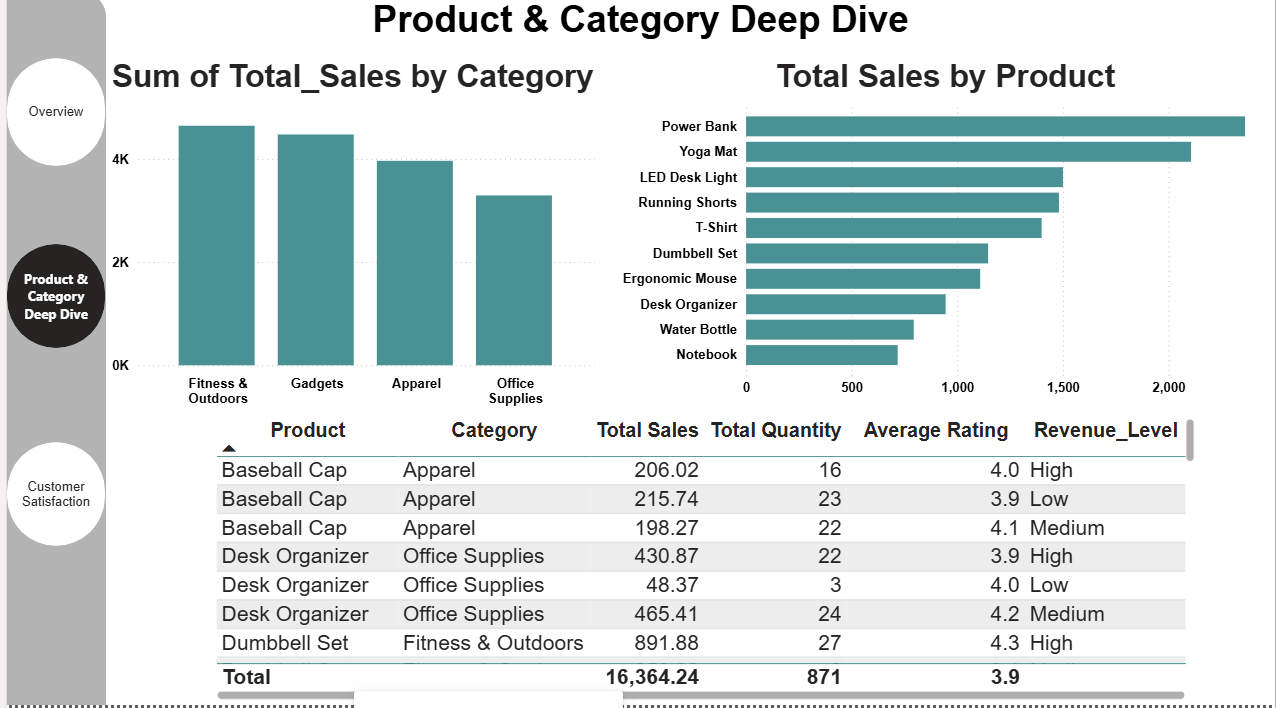

This screenshot's page, from the dashboard's own definition file:
{"tool":"powerbi","page":{"name":"Product & Category Deep Dive","canvas":[1280,720],"ordinal":1},"visuals":[{"type":"textbox","box":[348.3,0,583,66.6],"z":0},{"type":"shape","box":[0,0,100.2,720],"z":1000},{"type":"columnChart","fields":{"Y":["Sum(Sheet1.Total_Sales)"],"Category":["Sheet1.Category"]},"box":[99.9,66.6,498.2,358.9],"z":2000},{"type":"clusteredBarChart","fields":{"Category":["Sheet1.Product"],"Y":["Sheet1.Total Sales"]},"box":[614.8,66.6,664.7,348.3],"z":3000},{"type":"tableEx","fields":{"Values":["Sheet1.Product","Sheet1.Category","Sheet1.Total Sales","Sheet1.Total Quantity","Sheet1.Average Rating","Sheet1.Revenue_Level"]},"box":[205.9,425.5,997.9,293.8],"z":4000},{"type":"pageNavigator","box":[0,254.4,99.9,106],"z":5000},{"type":"pageNavigator","box":[0,66.6,99.9,109],"z":6000},{"type":"pageNavigator","box":[0,454.3,99.9,106],"z":7000},{"type":"actionButton","box":[0,66.6,99.9,109],"z":8000},{"type":"actionButton","box":[0,451.2,99.9,109],"z":9000}]}

Visuals, with their boxes in screenshot pixels (x1, y1, x2, y2), scaled from the page's 1280x720 canvas onto the 1276x708 screenshot:
textbox: locate(347, 0, 928, 65)
shape: locate(0, 0, 100, 707)
columnChart - Sum(Sheet1.Total_Sales) x Sheet1.Category: locate(100, 65, 596, 418)
clusteredBarChart - Sheet1.Product x Sheet1.Total Sales: locate(613, 65, 1275, 408)
tableEx - Sheet1.Product x Sheet1.Category: locate(205, 418, 1200, 707)
pageNavigator: locate(0, 250, 100, 354)
pageNavigator: locate(0, 65, 100, 173)
pageNavigator: locate(0, 447, 100, 551)
actionButton: locate(0, 65, 100, 173)
actionButton: locate(0, 444, 100, 551)
